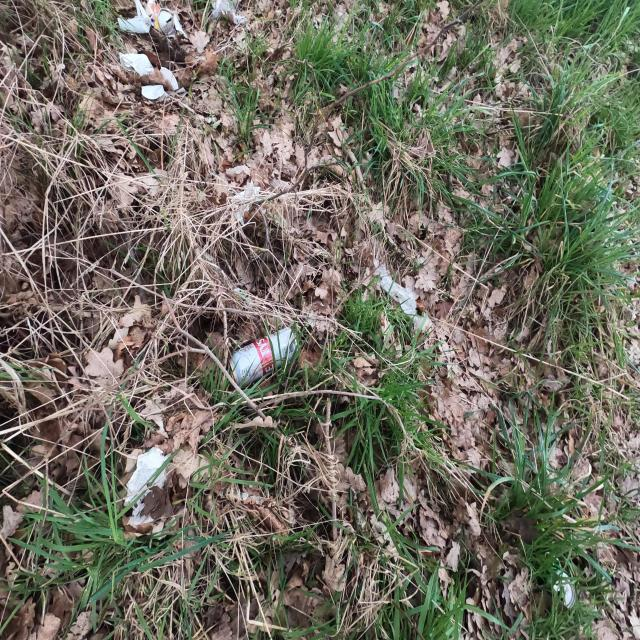Can-Metal: (229, 320, 300, 388), (546, 566, 576, 610)
Cup: (140, 66, 178, 100)
Paper: (122, 443, 176, 528), (374, 259, 419, 323), (228, 179, 261, 226), (118, 52, 155, 78), (211, 0, 248, 26)
